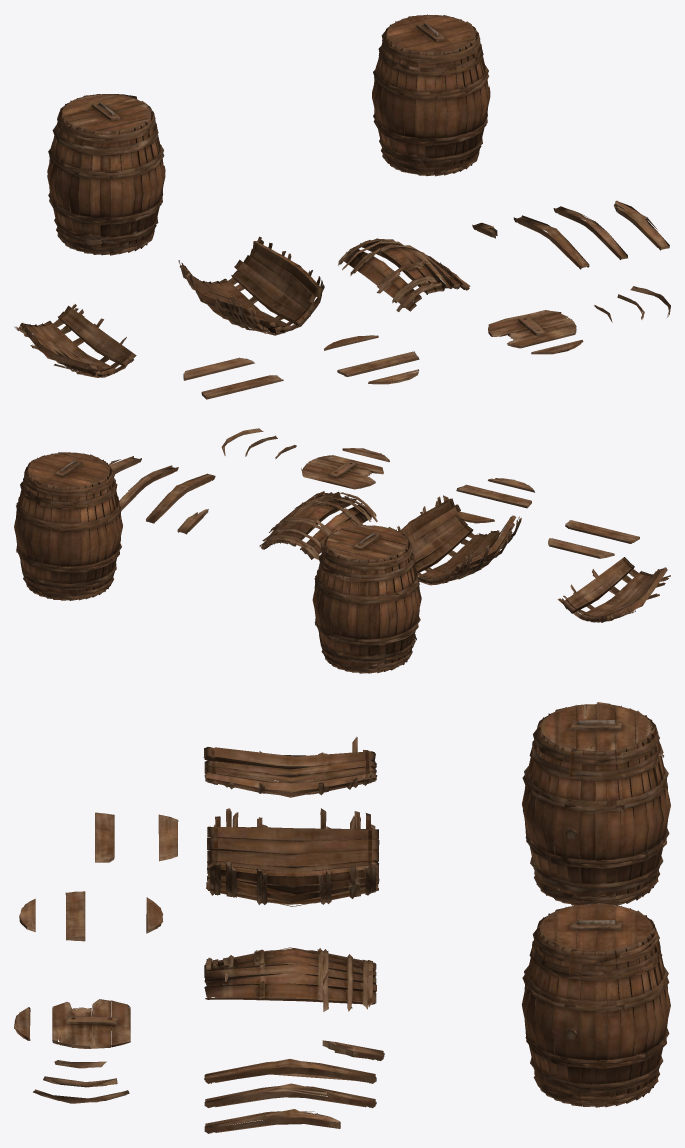
File: wooden_barrels_01.gltf
3 views of the same model, one above another, from view 1: azimuth 30°, elevation 25°; view 2: azimuth 150°, elevation 25°; view 3: azimuth 270°, elevation 25° (orthographic). The views are drawn at different scales.
Visible parts, largest first — view 1: wooden_barrels_01_barrel01; view 2: wooden_barrels_01_barrel01; view 3: wooden_barrels_01_barrel01.
Boxes of the visible parts, x1,y1,x2,y2 form: wooden_barrels_01_barrel01: [14, 14, 670, 399]; wooden_barrels_01_barrel01: [14, 428, 670, 673]; wooden_barrels_01_barrel01: [14, 702, 670, 1133].
Bounding box in the file's own units: 4.44 × 0.9558 × 3.35.
3 materials, 3 textured.
